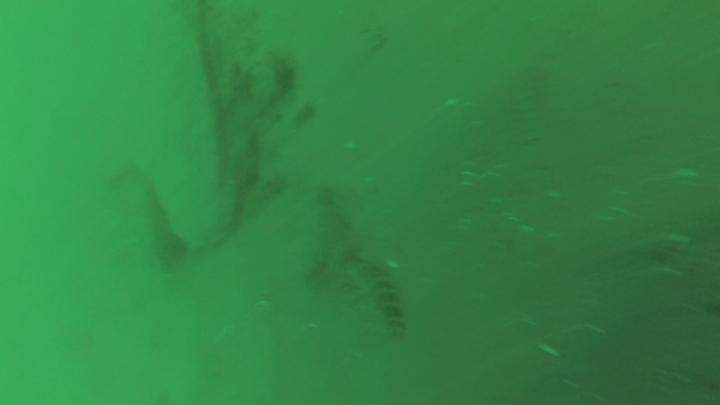holothurian: (357, 254, 407, 339), (238, 174, 287, 219), (289, 102, 319, 129)
